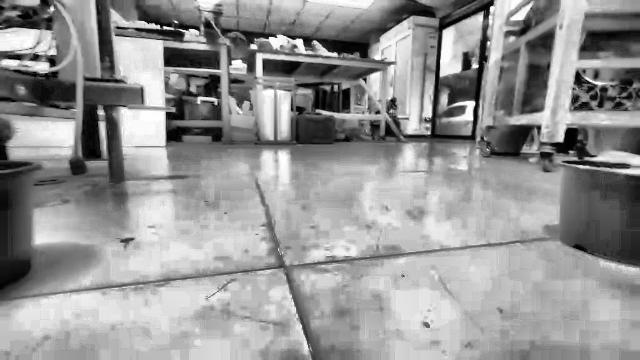pot: (560, 159, 639, 266), (0, 161, 40, 288)
